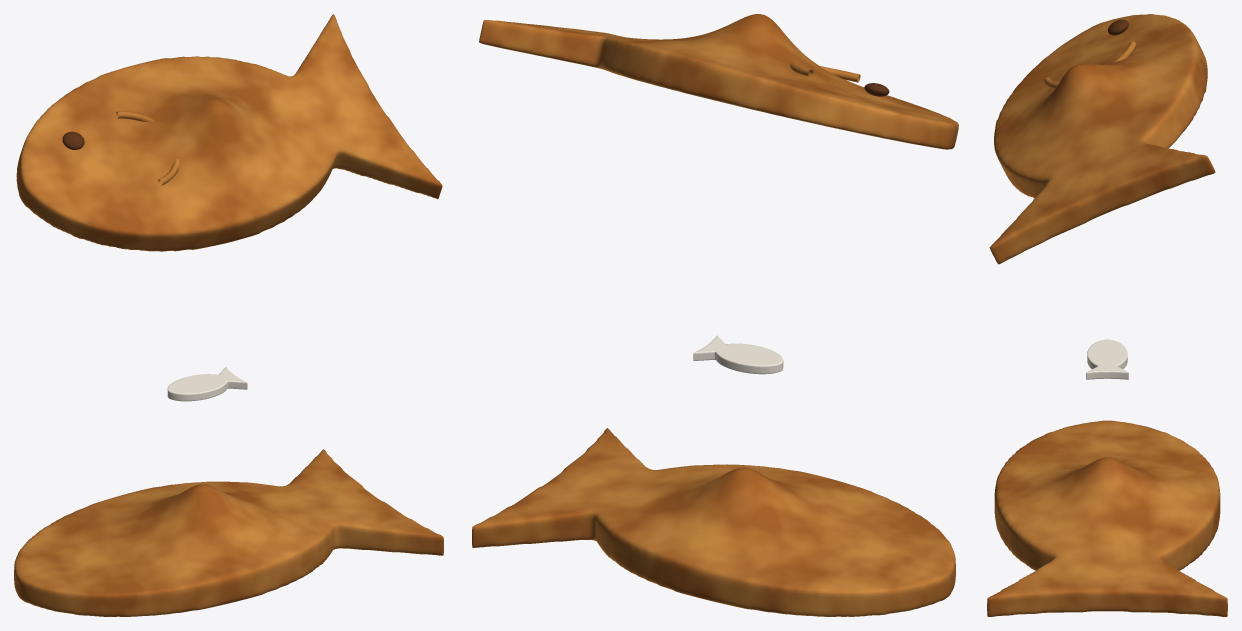
File: samanco.glb
3 renders of one model, left to right at view 1: azimuth 30°, elevation 25°; view 2: azimuth 150°, elevation 25°; view 3: azimuth 270°, elevation 25°, orthographic. The views are drawn at different scales.
Parts seen in each view (by area): view 1: top, bottom, cream; view 2: bottom, top, cream; view 3: bottom, top, cream.
Boxes of the visible parts, bbox=[...] form: top: bbox=[16, 14, 442, 251]; bottom: bbox=[14, 449, 443, 616]; cream: bbox=[167, 367, 247, 401]; bottom: bbox=[472, 428, 955, 616]; top: bbox=[479, 14, 958, 149]; cream: bbox=[693, 335, 783, 374]; bottom: bbox=[987, 420, 1227, 616]; top: bbox=[989, 14, 1215, 264]; cream: bbox=[1086, 339, 1128, 379].
Size of what is drawn, in the model's own units: 2.78 by 3.42 by 1.6.
Materials: 5 (4 with a texture image).
